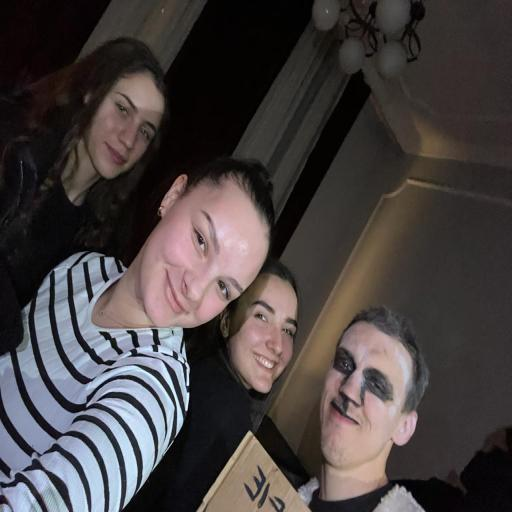marija: (144, 173, 254, 329)
masa: (94, 55, 160, 184)
